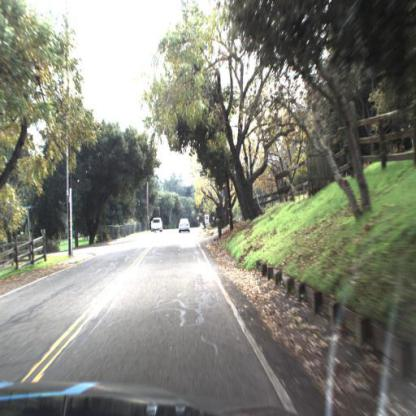car: (149, 212, 166, 237), (175, 213, 192, 236)
